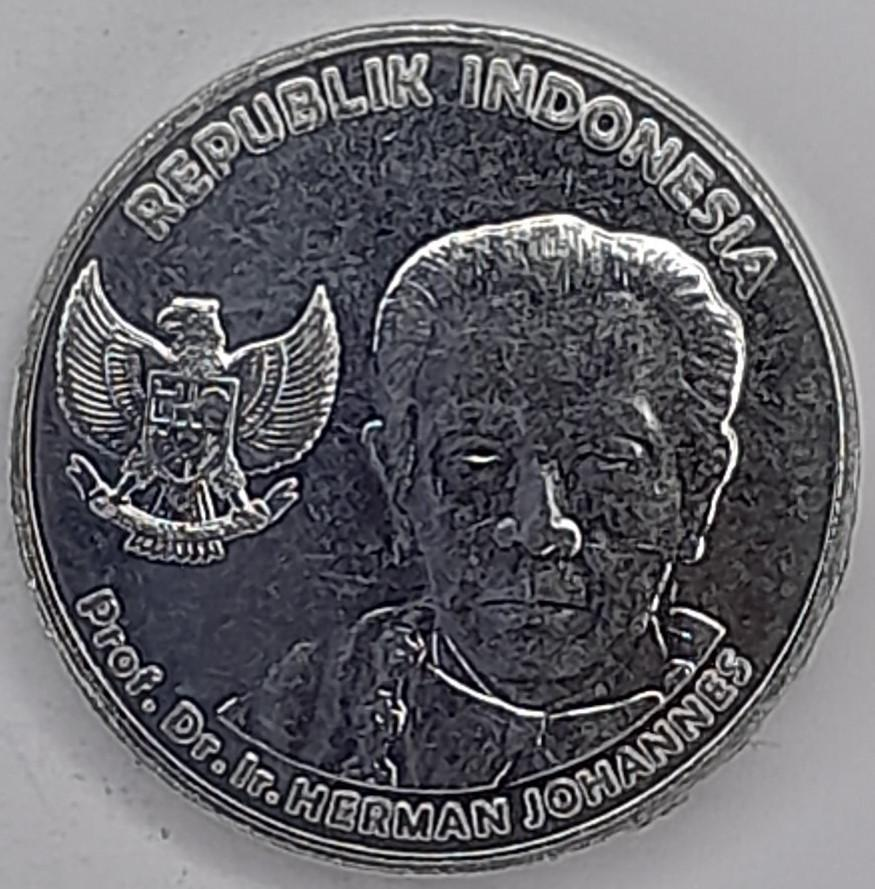coin_100_e2016: (2, 14, 867, 879)
